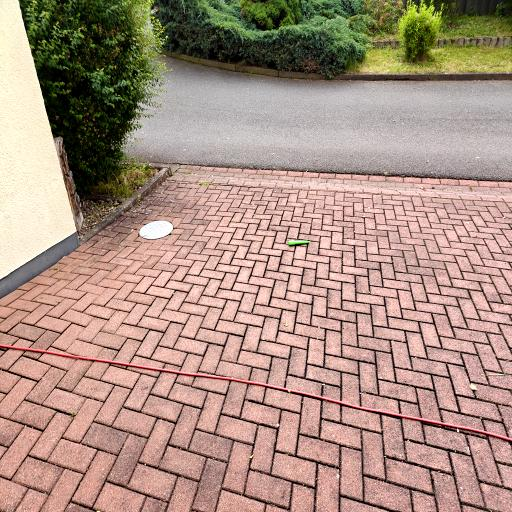Probe-Detection: (288, 240, 309, 246)
